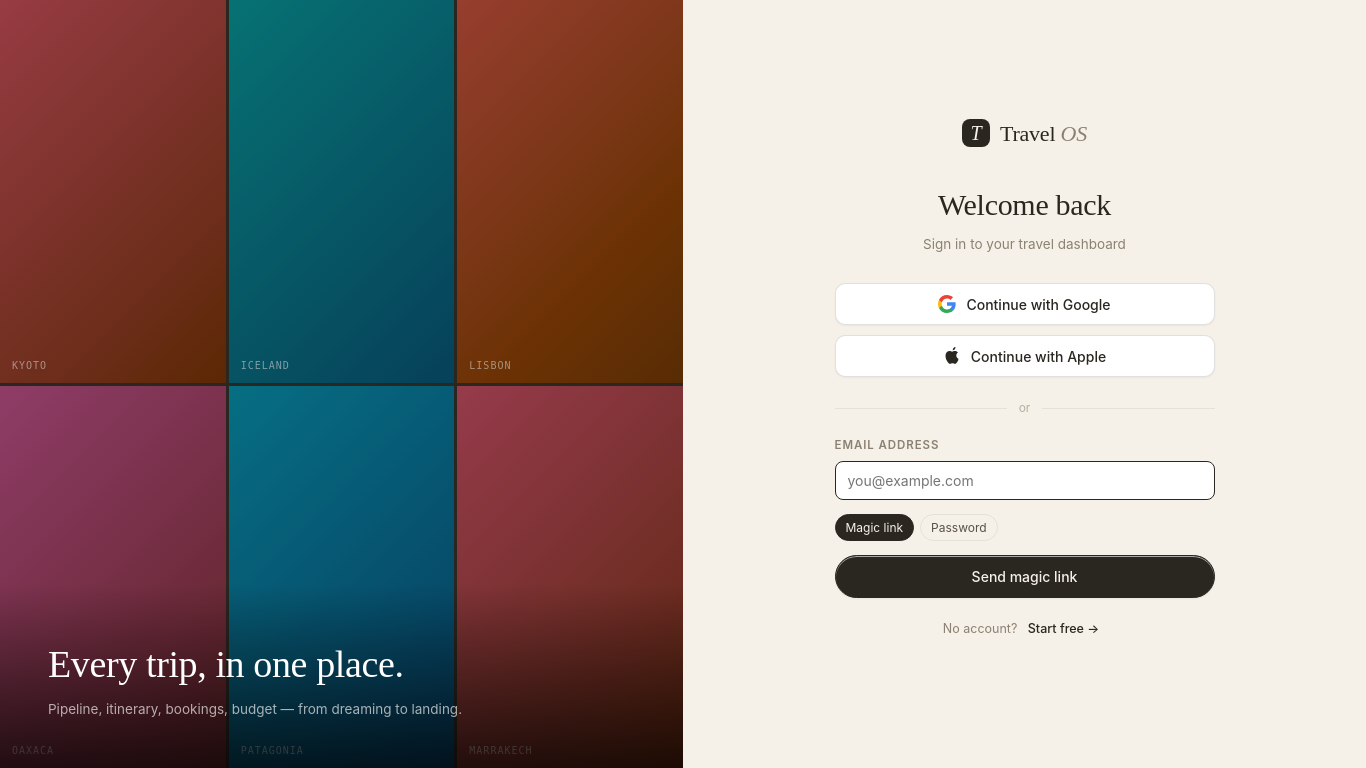
Login › shows confirmation screen with email after successful sign-in
Type "user@example.com" into the field labelled "Email address" at (1024, 480), box [834,460,1214,500]
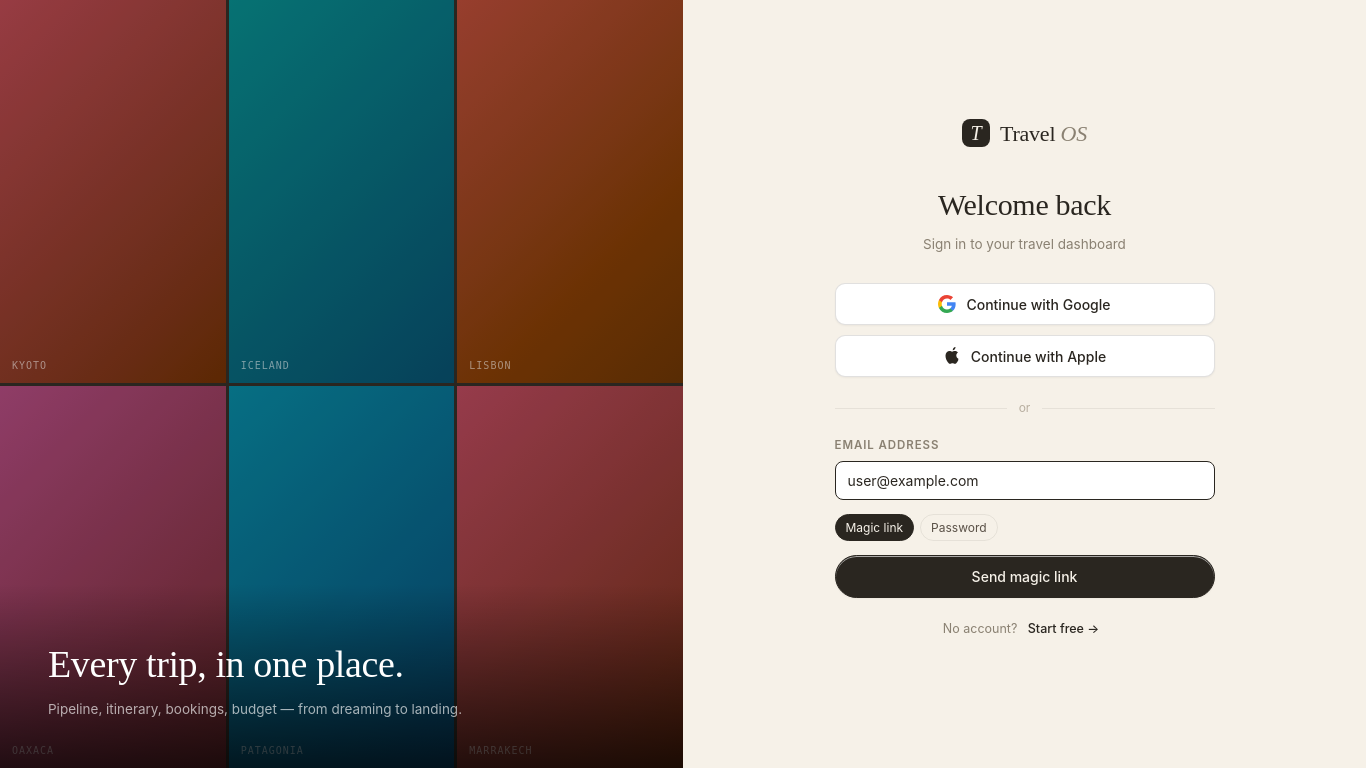
Click the button "Send magic link" at (1024, 576), box [834,554,1214,598]
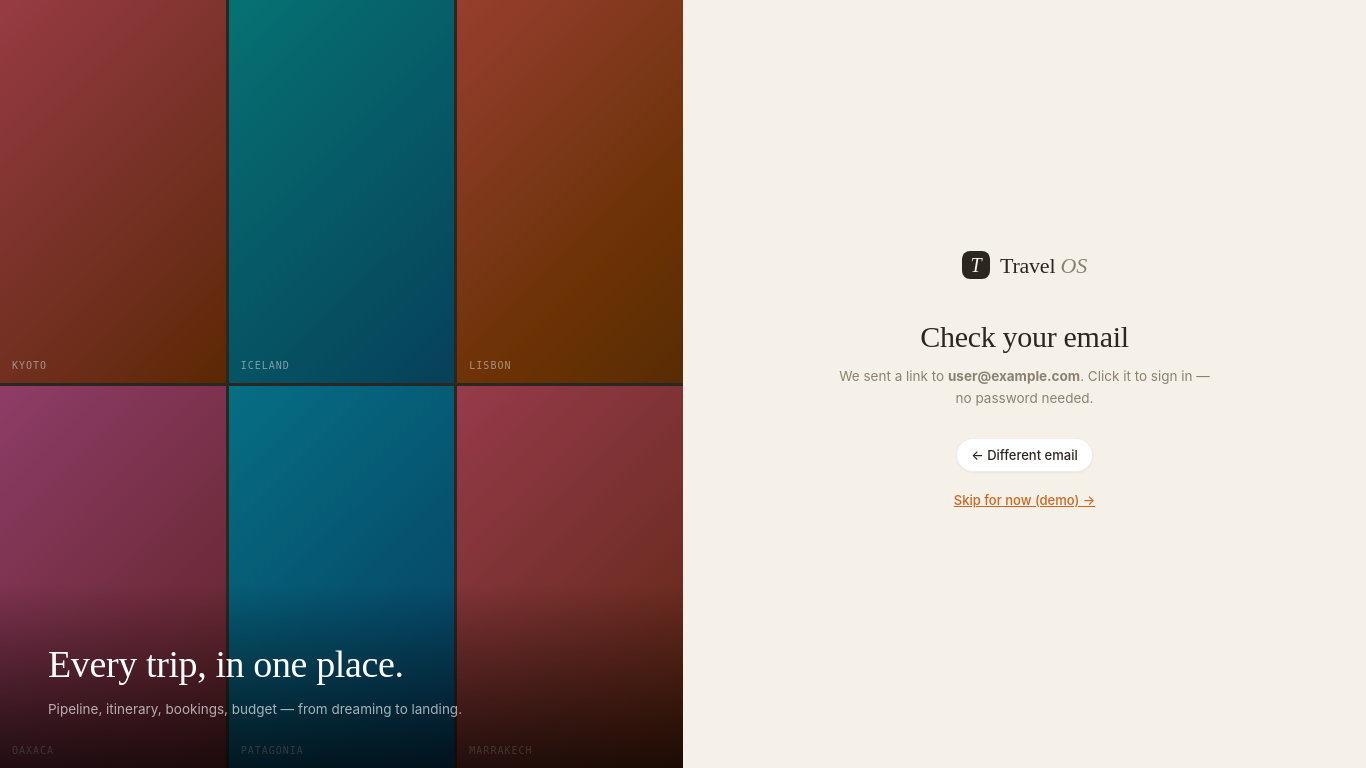
Expected: the heading "Check your email" is shown, [920,320,1129,353]
Expected: the text "user@example.com" is shown, [948,368,1080,384]
